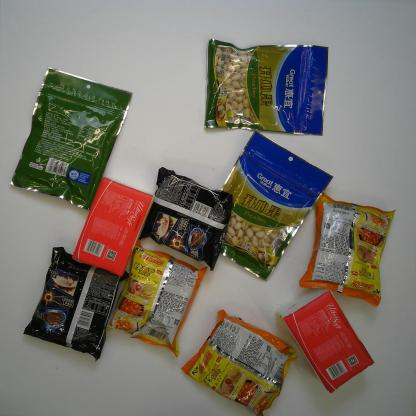Dried Fruit: (9, 67, 134, 211), (214, 130, 334, 280), (204, 38, 328, 136)
Instant Noodles: (22, 246, 130, 364), (180, 309, 298, 416), (105, 238, 208, 357), (299, 192, 395, 309), (138, 165, 234, 272)
Tissue: (277, 287, 376, 395), (71, 175, 156, 280)
